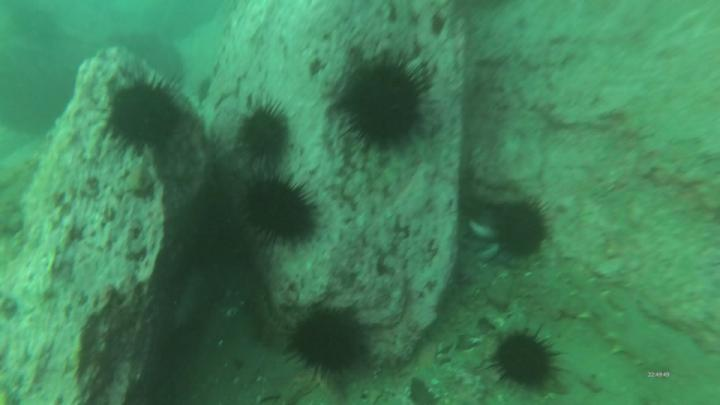echinus: (327, 53, 438, 160), (99, 71, 191, 157), (282, 302, 369, 381), (239, 169, 317, 251), (483, 325, 565, 397), (489, 194, 554, 265), (239, 100, 294, 169)
holothurian: (557, 262, 678, 380)
